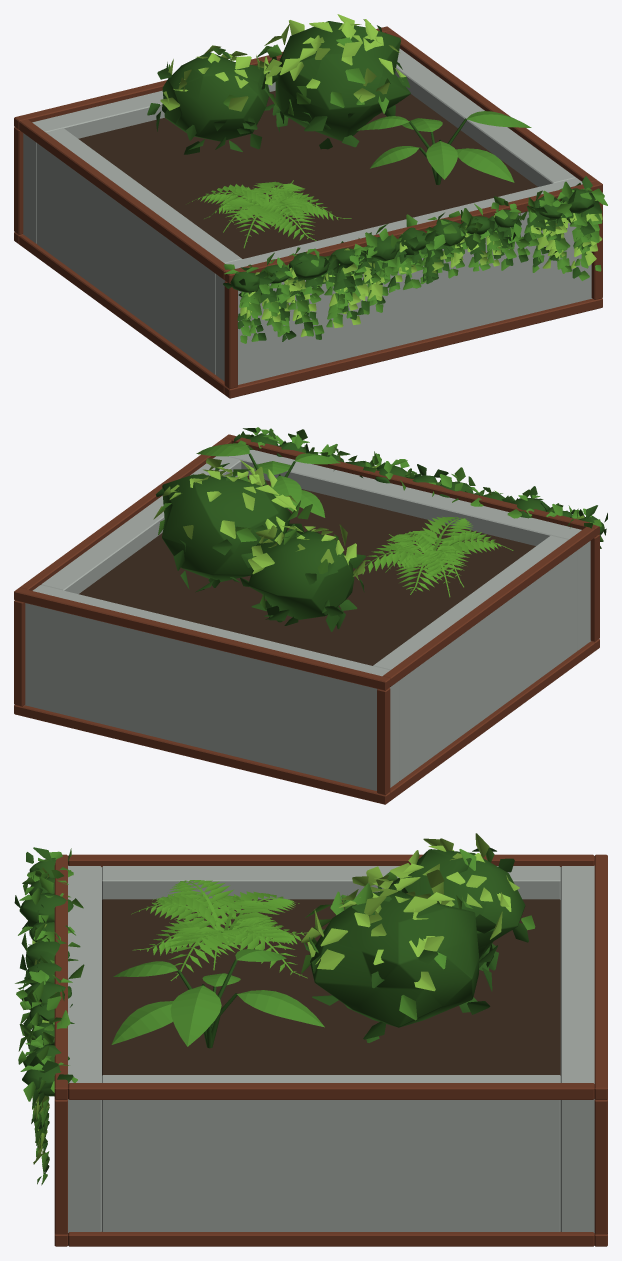
The model's file is RUIN_BLK_Planter_4.glb.
The picture shows the model from 3 angles, top to bottom: view 1: azimuth 30°, elevation 25°; view 2: azimuth 150°, elevation 25°; view 3: azimuth 270°, elevation 25°; orthographic projection. The views are drawn at different scales.
Parts seen in each view (by area): view 1: RUIN_BLK_Planter_4; view 2: RUIN_BLK_Planter_4; view 3: RUIN_BLK_Planter_4.
Boxes of the visible parts, x1=… form: RUIN_BLK_Planter_4: x1=14, y1=14, x2=607, y2=398; RUIN_BLK_Planter_4: x1=14, y1=427, x2=607, y2=804; RUIN_BLK_Planter_4: x1=14, y1=833, x2=607, y2=1246.
Size of the model in its own units: 4.17 by 2.31 by 4.4.
